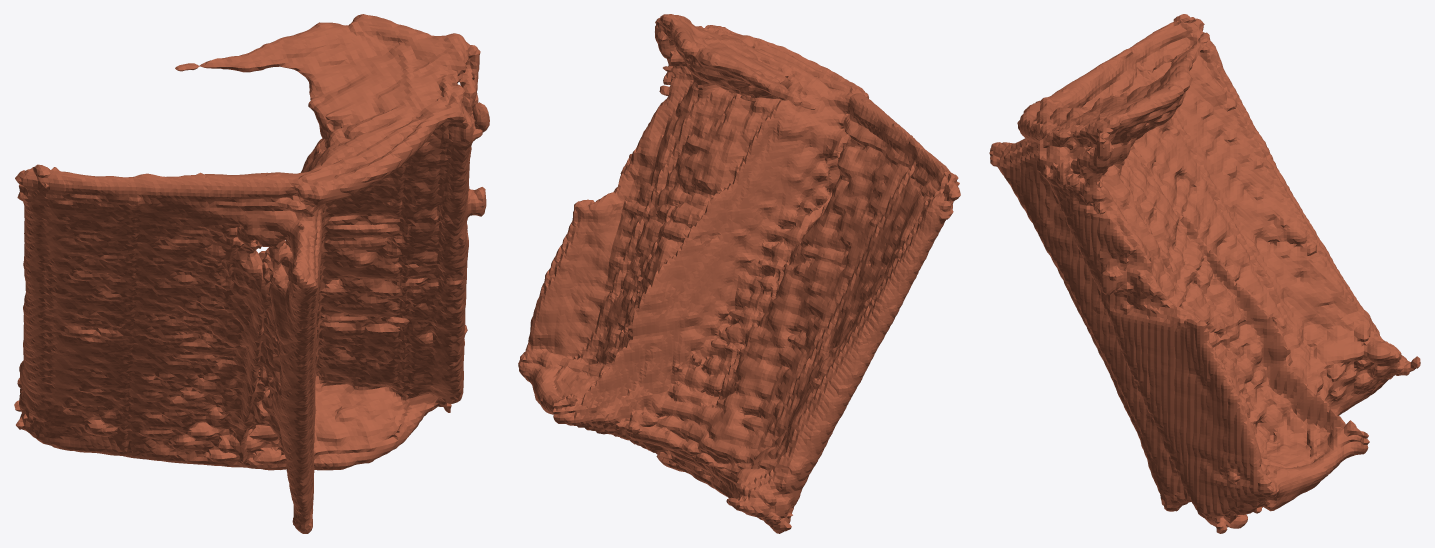
File: raw.glb
3 renders of one model, left to right at view 1: azimuth 30°, elevation 25°; view 2: azimuth 150°, elevation 25°; view 3: azimuth 270°, elevation 25°, orthographic. The views are drawn at different scales.
Visible parts, largest first — view 1: world; view 2: world; view 3: world.
Part boxes in pixels (x1,y1,x2,y2): world: [14, 14, 489, 533]; world: [518, 14, 960, 533]; world: [989, 14, 1420, 533].
Size of the model in its own units: 0.74 by 0.739 by 0.6378.
